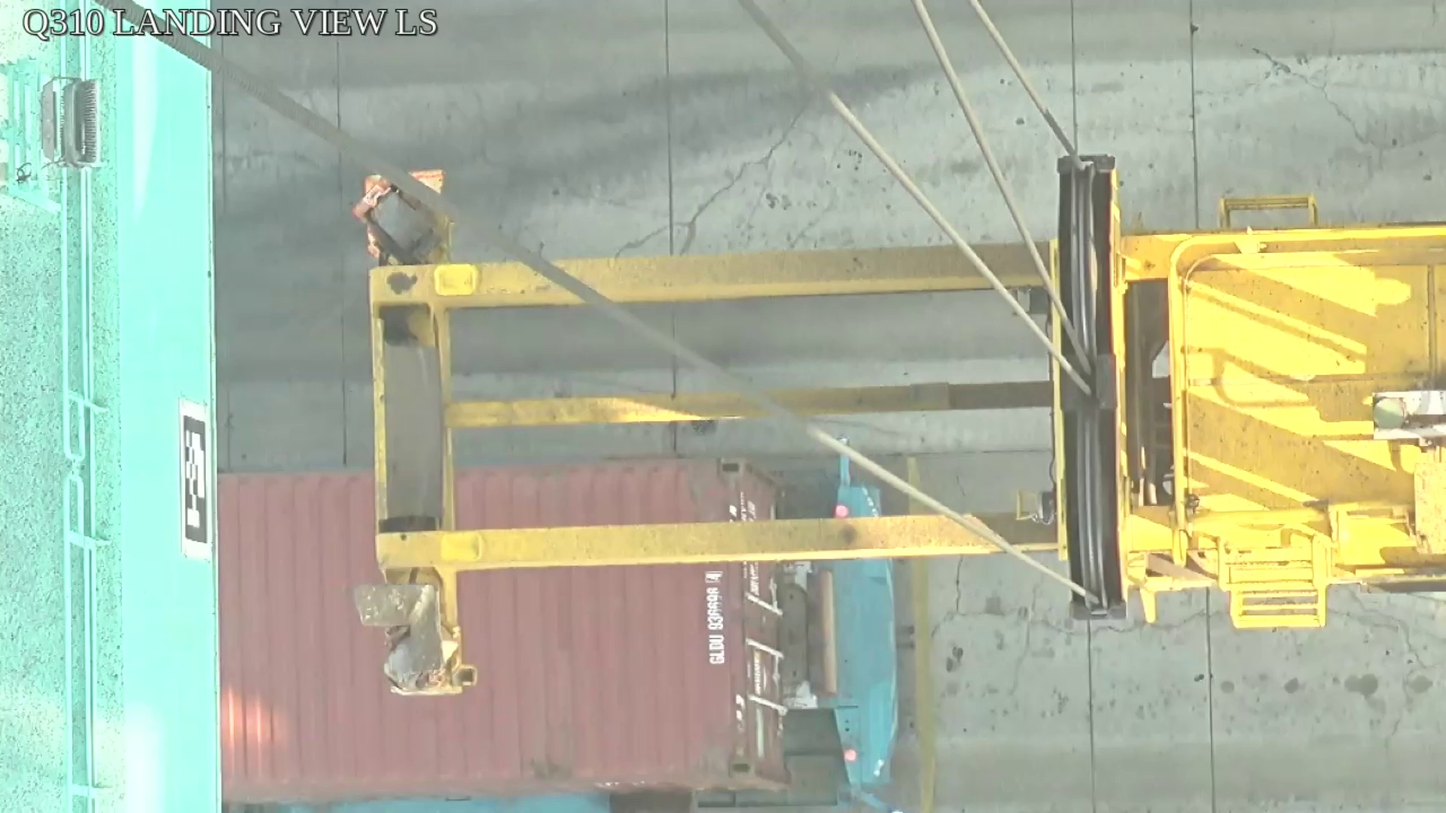aa: (1048, 153, 1132, 618)
